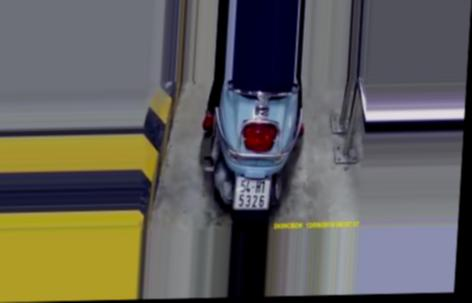License_Plate: (230, 174, 273, 215)
